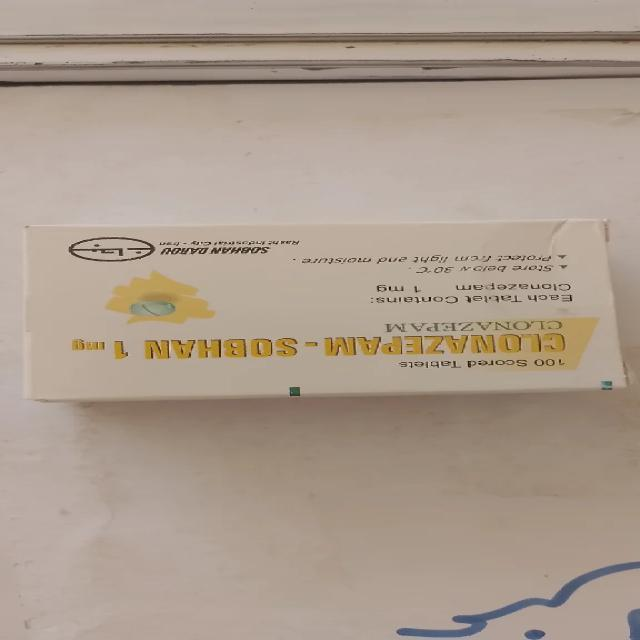drug-name: (110, 334, 568, 361)
